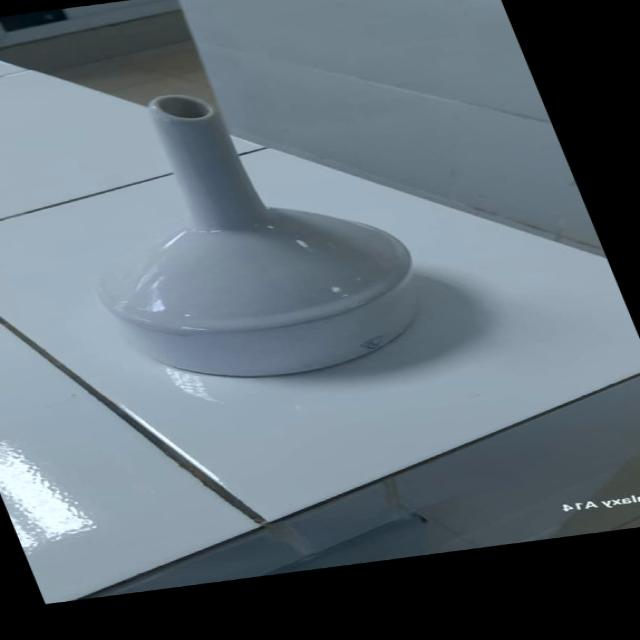Bunchen funnel: (0, 65, 458, 401)
